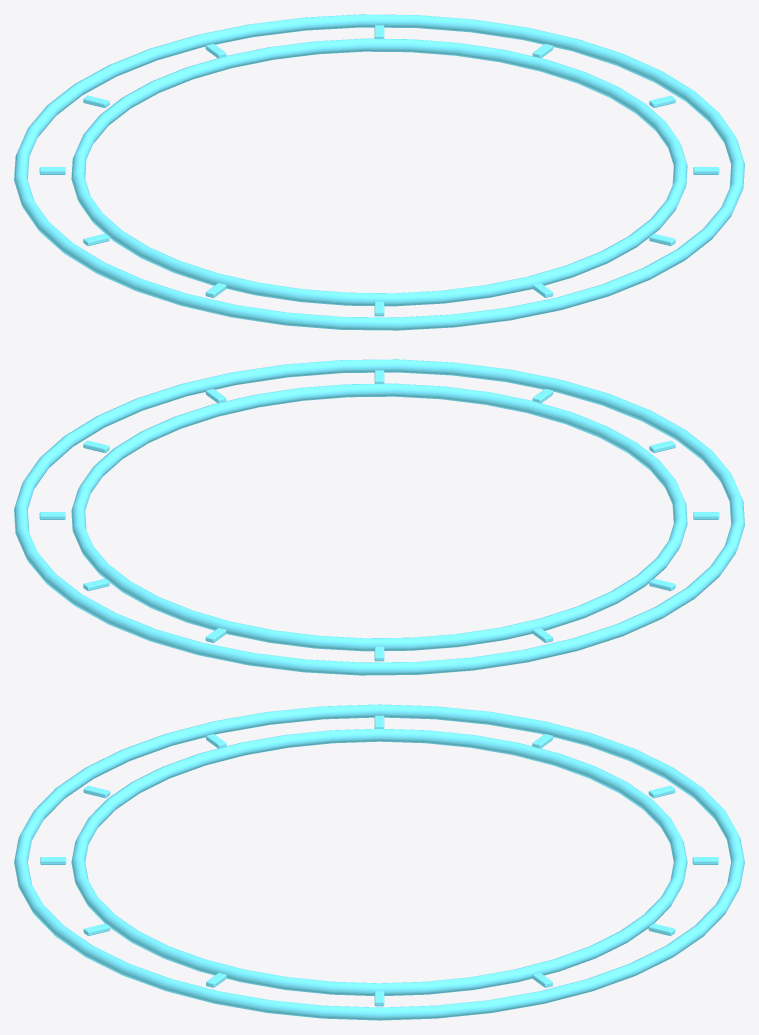
The model's file is objective_sigil.glb.
3 renders of one model, top to bottom at view 1: azimuth 30°, elevation 25°; view 2: azimuth 150°, elevation 25°; view 3: azimuth 270°, elevation 25°, orthographic.
Parts seen in each view (by area): view 1: objective_sigil; view 2: objective_sigil; view 3: objective_sigil.
Part boxes in pixels (x1,y1,x2,y2): objective_sigil: (14,14,744,330); objective_sigil: (14,359,744,675); objective_sigil: (14,704,744,1020).
Bounding box in the file's own units: 1.26 × 0.024 × 1.26.
